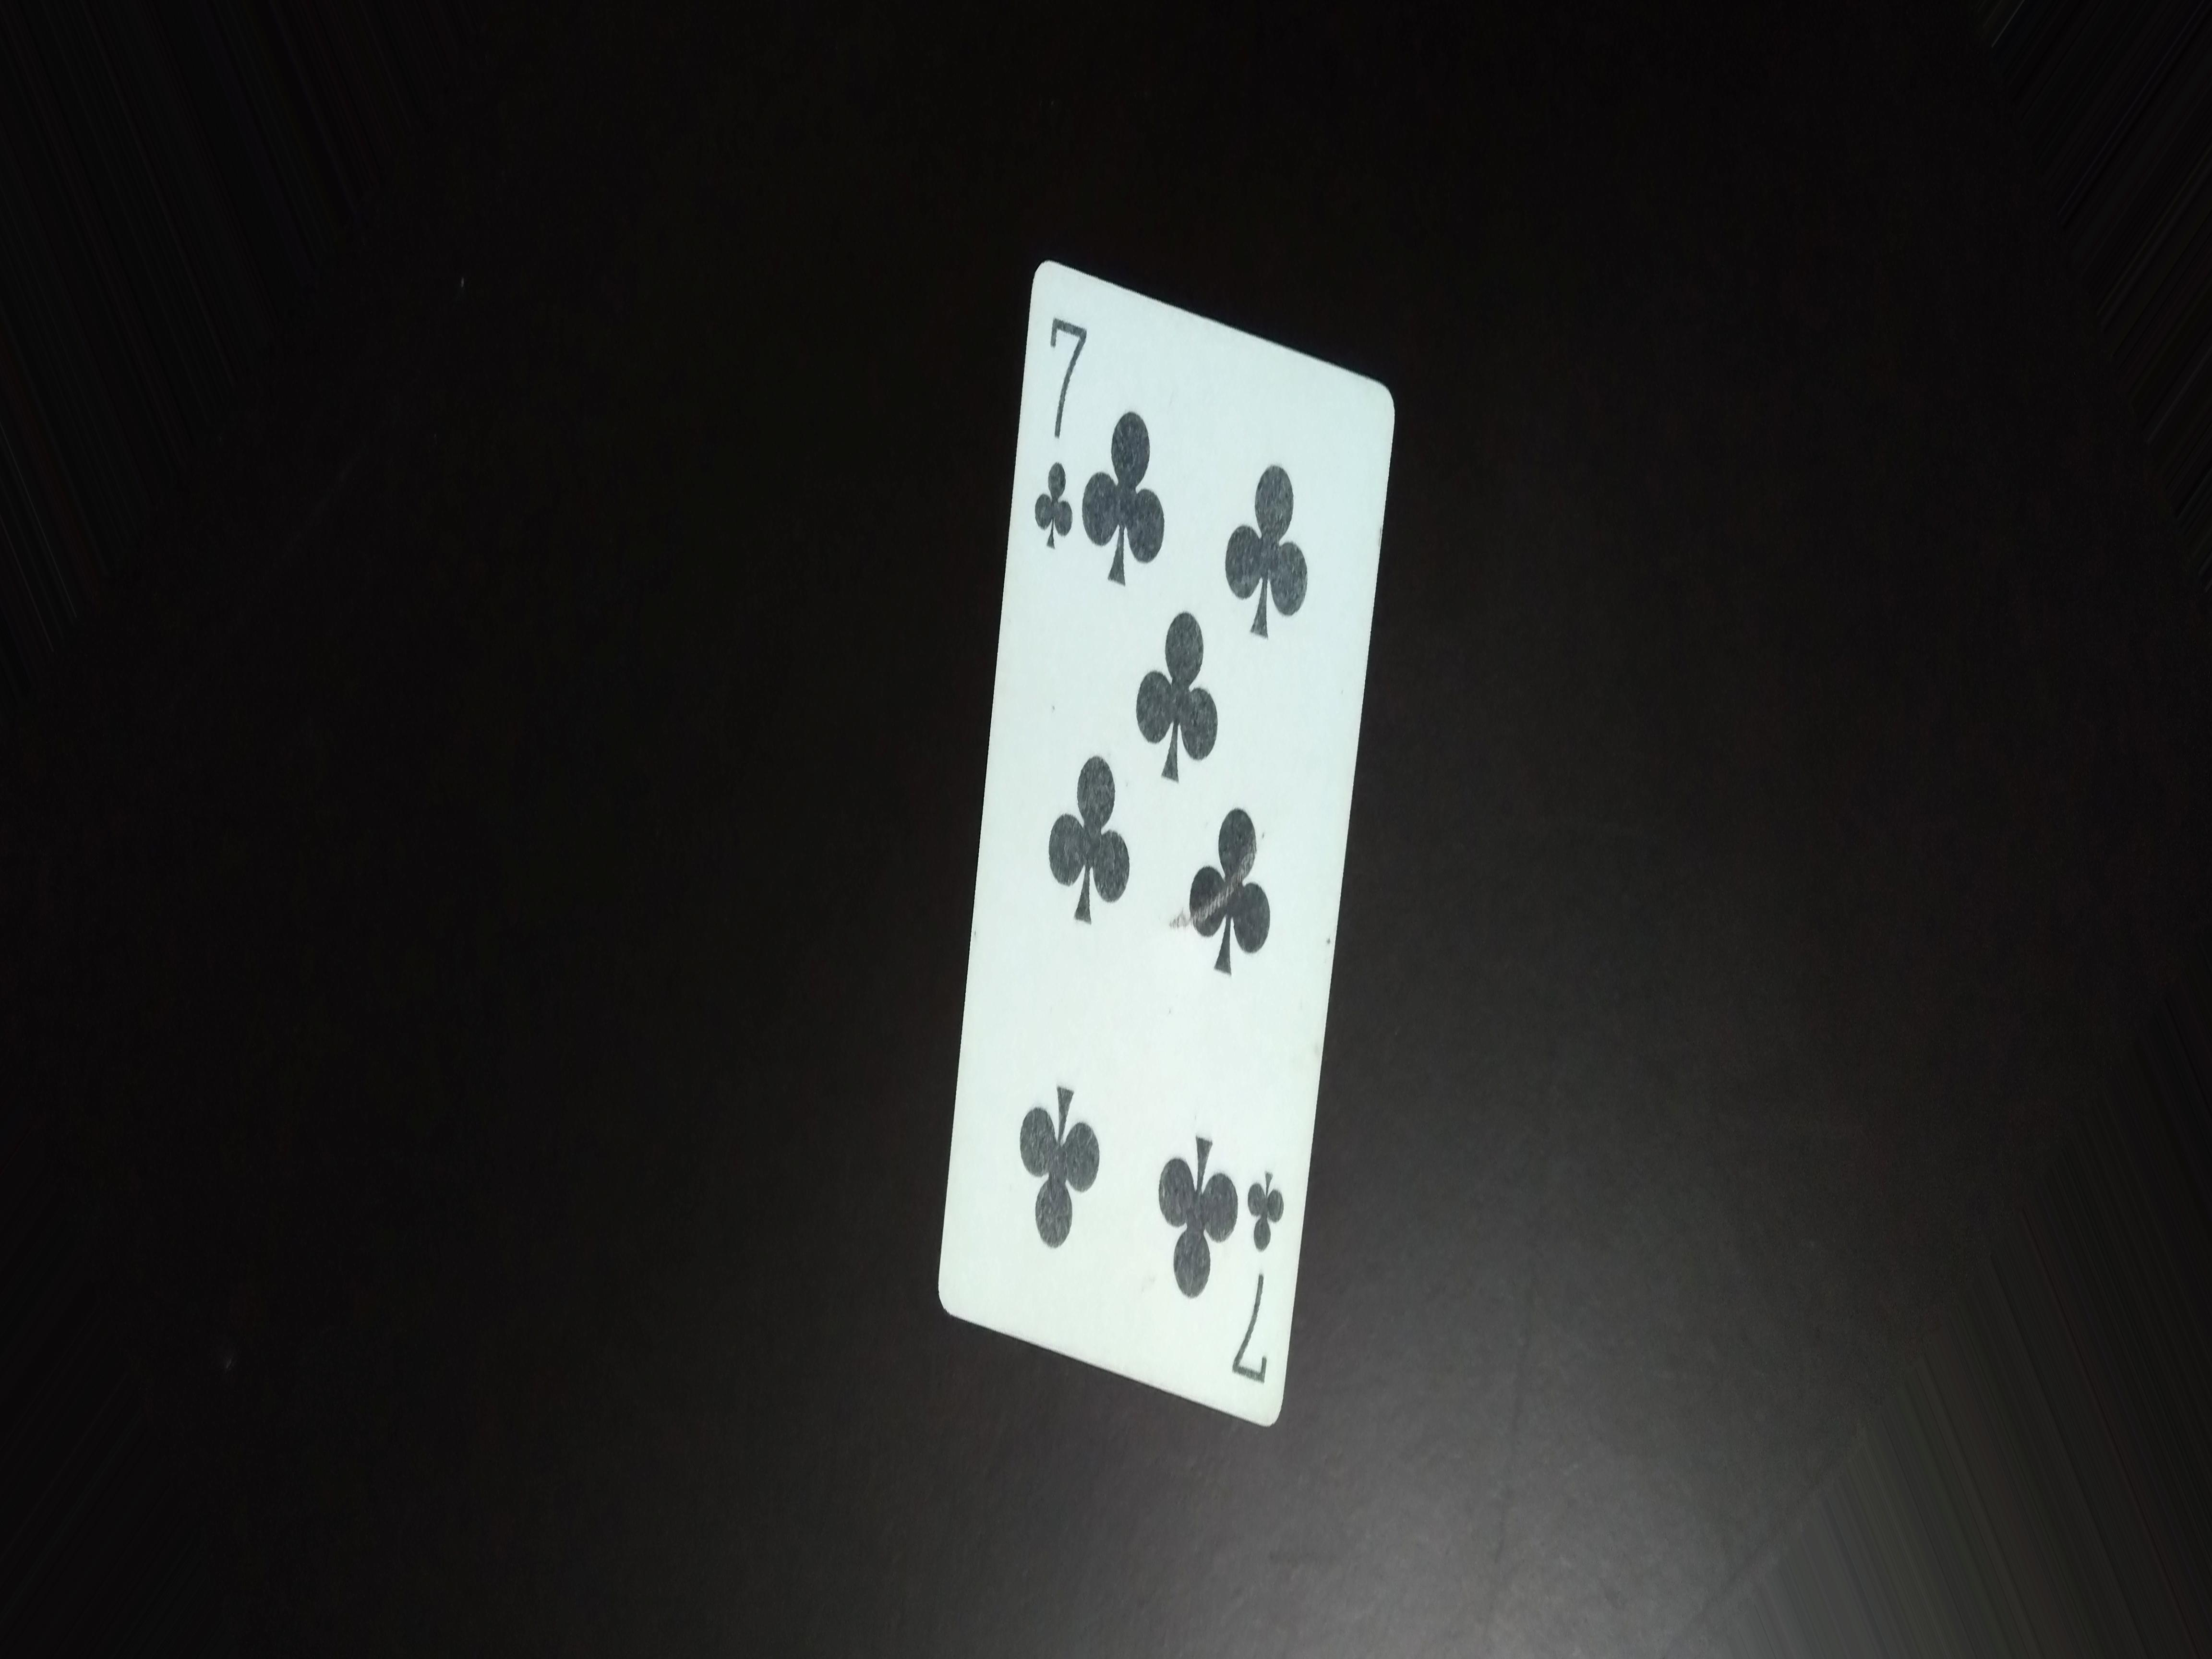7C: (1029, 282, 1092, 573)
